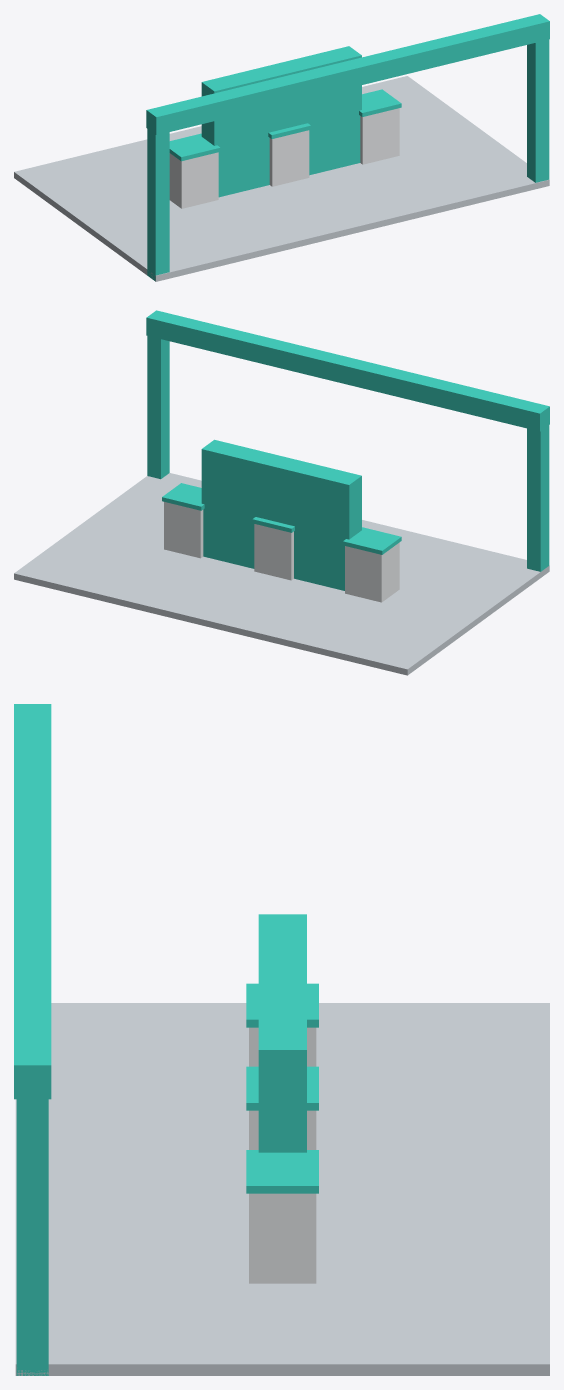
3 views of the same model, one above another, from view 1: azimuth 30°, elevation 25°; view 2: azimuth 150°, elevation 25°; view 3: azimuth 270°, elevation 25° (orthographic). The views are drawn at different scales.
Visible parts, largest first — view 1: Exhibition Booth Concept; view 2: Exhibition Booth Concept; view 3: Exhibition Booth Concept.
Part boxes in pixels (<box>): Exhibition Booth Concept: <box>14,14,549,281</box>; Exhibition Booth Concept: <box>14,310,549,675</box>; Exhibition Booth Concept: <box>14,704,549,1375</box>.
Size of the model in its own units: 8 by 3.2 by 5.02.
